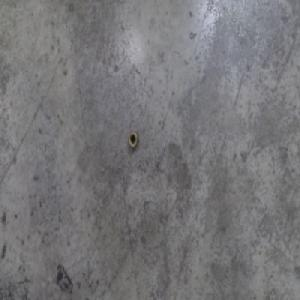Nut: (127, 130, 139, 150)
